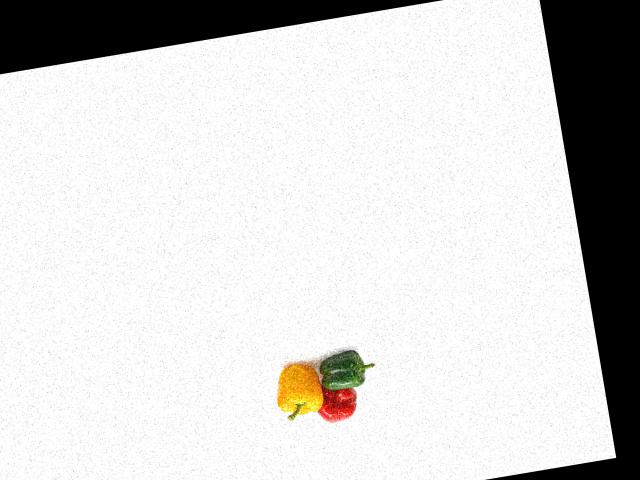bell_pepper: (307, 347, 374, 399)
